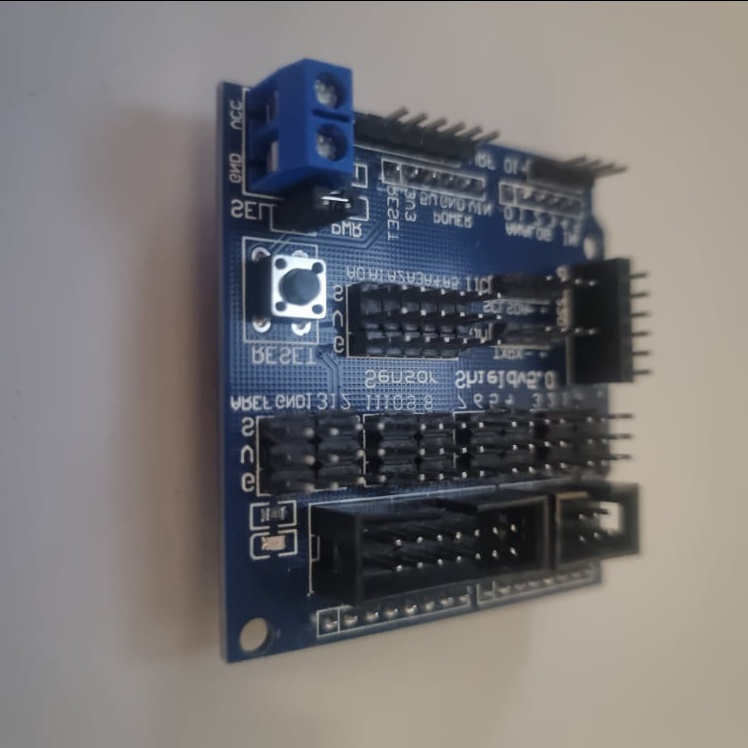5V EXPANSION: (211, 57, 649, 667)
